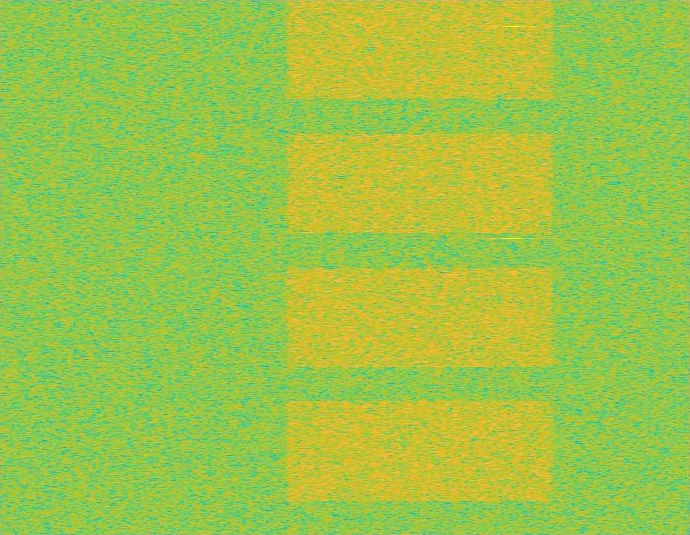5G: (282, 0, 558, 534)
Radar: (507, 0, 520, 534)
